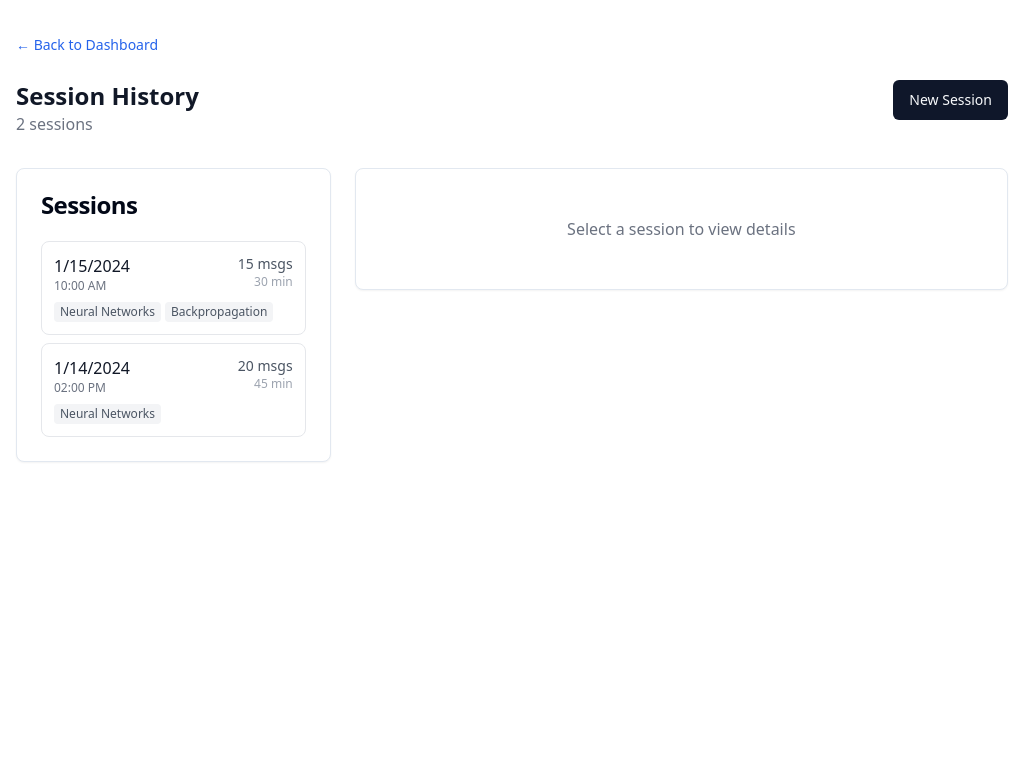
Test: History › session detail › should display session details section title
expect the text "15 msgs" is shown: met, box [238,254,293,274]
Click the button that starts with "10:00 AM": point(92, 266) [41,241,306,335]
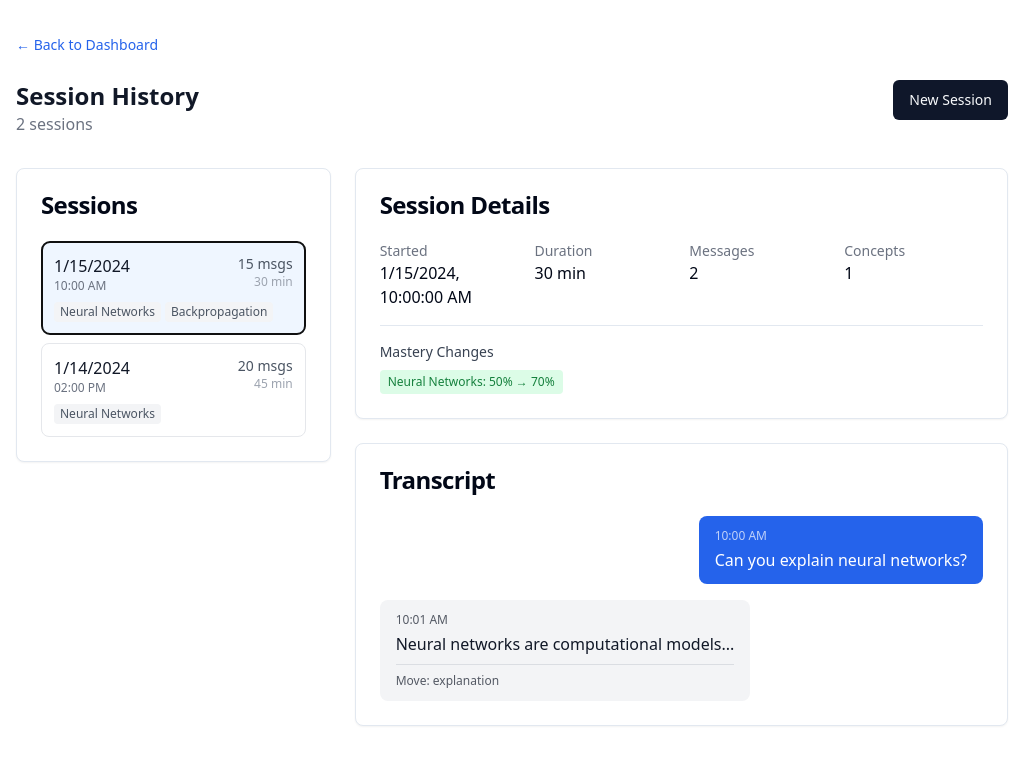
expect the heading "Session Details" is shown: met, box [380,188,550,221]
